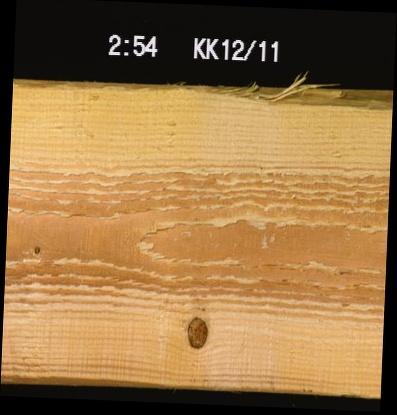dry_knot: (184, 313, 208, 349)
small_knot: (30, 241, 42, 256)
wave: (12, 78, 392, 104), (0, 375, 380, 394)
